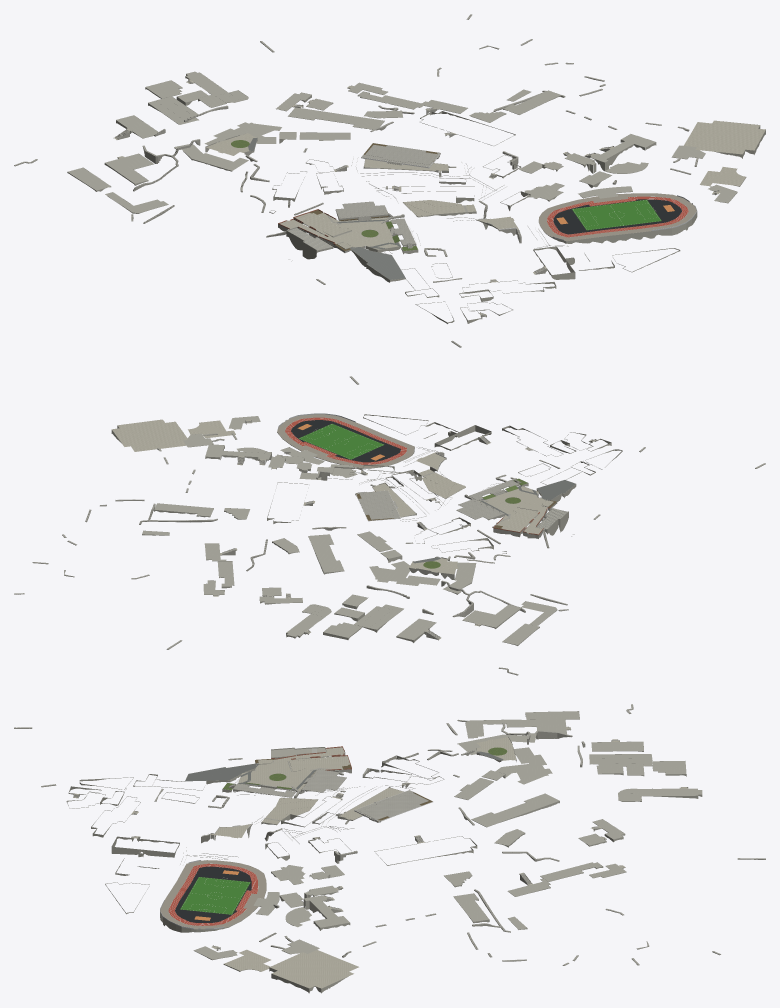
The picture shows the model from 3 angles, top to bottom: view 1: azimuth 30°, elevation 25°; view 2: azimuth 150°, elevation 25°; view 3: azimuth 270°, elevation 25°; orthographic projection. The views are drawn at different scales.
Parts seen in each view (by area): view 1: forecourt__concrete, forecourt__paving, forecourt__granite, forecourt__turf, forecourt__apron, forecourt__dzone, forecourt__track, forecourt__asphalt; view 2: forecourt__concrete, forecourt__paving, forecourt__granite, forecourt__turf, forecourt__apron, forecourt__dzone, forecourt__track, forecourt__asphalt; view 3: forecourt__concrete, forecourt__paving, forecourt__granite, forecourt__turf, forecourt__apron, forecourt__dzone, forecourt__track, forecourt__asphalt, forecourt__kerb.
Part boxes in pixels (bbox=[...]): forecourt__concrete: bbox=[67, 71, 765, 323]; forecourt__paving: bbox=[114, 79, 765, 315]; forecourt__granite: bbox=[14, 14, 717, 384]; forecourt__turf: bbox=[572, 199, 661, 230]; forecourt__apron: bbox=[539, 193, 696, 241]; forecourt__dzone: bbox=[553, 199, 681, 234]; forecourt__track: bbox=[547, 196, 688, 237]; forecourt__asphalt: bbox=[248, 138, 405, 279]; forecourt__concrete: bbox=[111, 414, 622, 645]; forecourt__paving: bbox=[112, 419, 595, 639]; forecourt__granite: bbox=[14, 421, 765, 675]; forecourt__turf: bbox=[298, 423, 384, 459]; forecourt__apron: bbox=[277, 414, 414, 467]; forecourt__dzone: bbox=[291, 420, 400, 462]; forecourt__track: bbox=[285, 417, 406, 464]; forecourt__asphalt: bbox=[413, 480, 575, 563]; forecourt__concrete: bbox=[66, 711, 702, 993]; forecourt__paving: bbox=[73, 727, 688, 988]; forecourt__granite: bbox=[14, 704, 765, 965]; forecourt__turf: bbox=[180, 877, 250, 914]; forecourt__apron: bbox=[160, 860, 266, 929]; forecourt__dzone: bbox=[175, 866, 251, 922]; forecourt__track: bbox=[168, 863, 257, 925]; forecourt__asphalt: bbox=[185, 751, 503, 790]; forecourt__kerb: bbox=[180, 773, 415, 864].
Bounding box in the file's own units: 791 × 48.77 × 859.
Materials: 16 (7 with a texture image).
